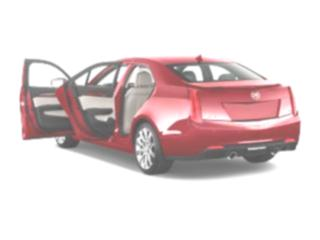cadillac: (250, 88, 264, 102)
